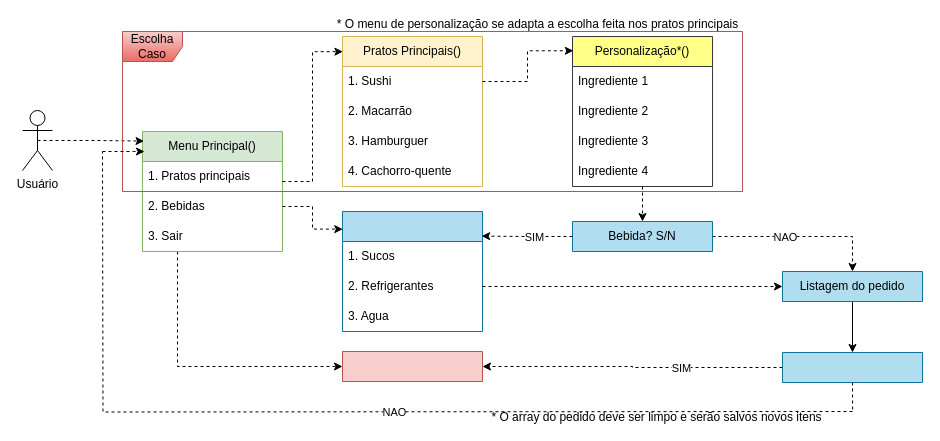
The diagram is 940 pixels wide and 441 high, and some of its shapes have lost their labels. Here are the shapes that lost their labels. From the top down, the box of each, then its label:
(342, 210, 482, 332): Bebidas()
(342, 350, 482, 382): Sair()
(782, 352, 922, 382): Confirmar pedido?
